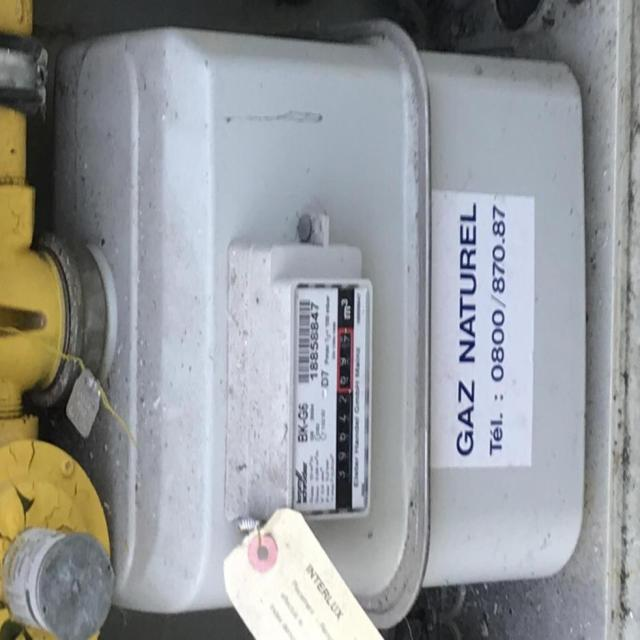gaz_meter: (292, 280, 371, 520)
indication: (335, 327, 354, 506)
